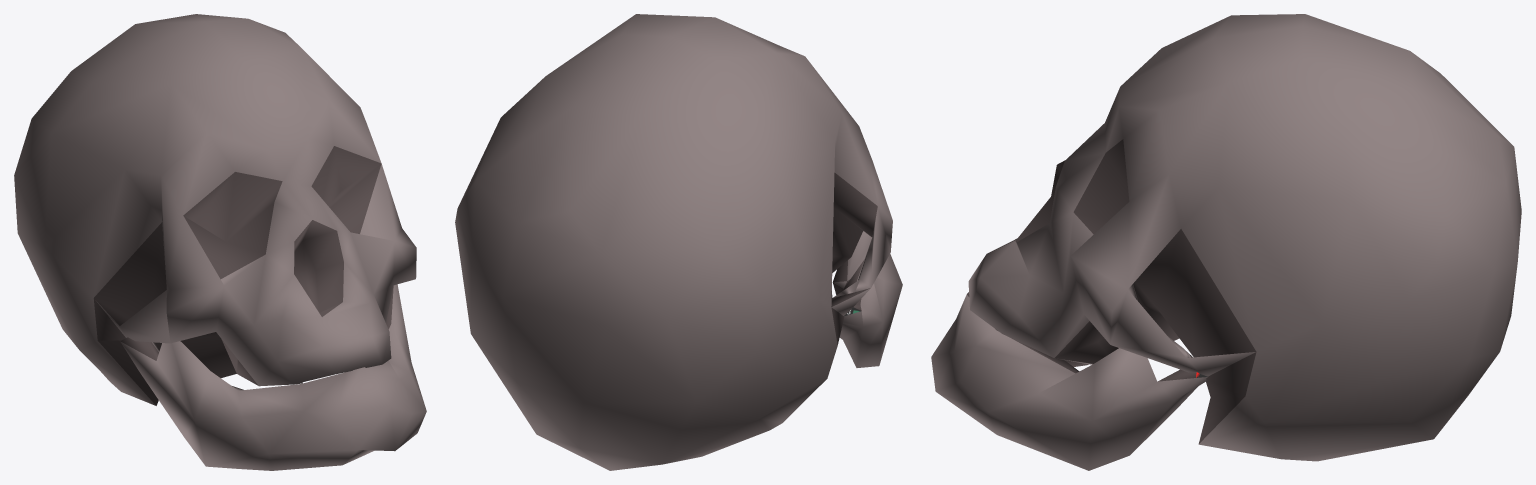
The model's file is HWN20_Skull_01.glb.
3 views of the same model, side by side, from view 1: azimuth 30°, elevation 25°; view 2: azimuth 150°, elevation 25°; view 3: azimuth 270°, elevation 25° (orthographic). The views are drawn at different scales.
Parts seen in each view (by area): view 1: HWN20_Skull_01; view 2: HWN20_Skull_01; view 3: HWN20_Skull_01.
Boxes of the visible parts, x1,y1,x2,y2 form: HWN20_Skull_01: (14, 14, 426, 470); HWN20_Skull_01: (455, 14, 902, 470); HWN20_Skull_01: (931, 14, 1521, 470).
Size of what is drawn, in the model's own units: 0.2146 by 0.2467 by 0.3214.
Materials: 1 (1 with a texture image).
